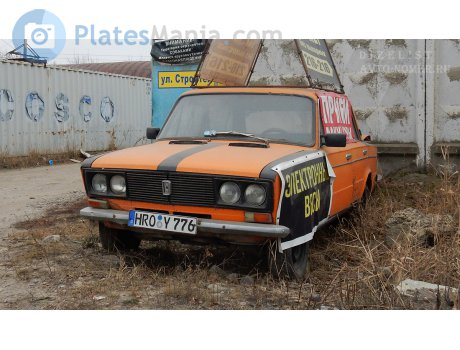License Plates: (139, 211, 197, 229)
